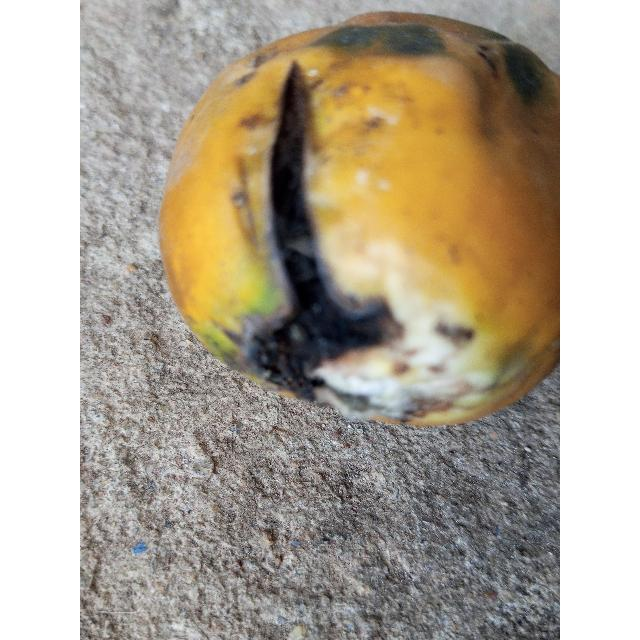damaged: (158, 12, 560, 431)
